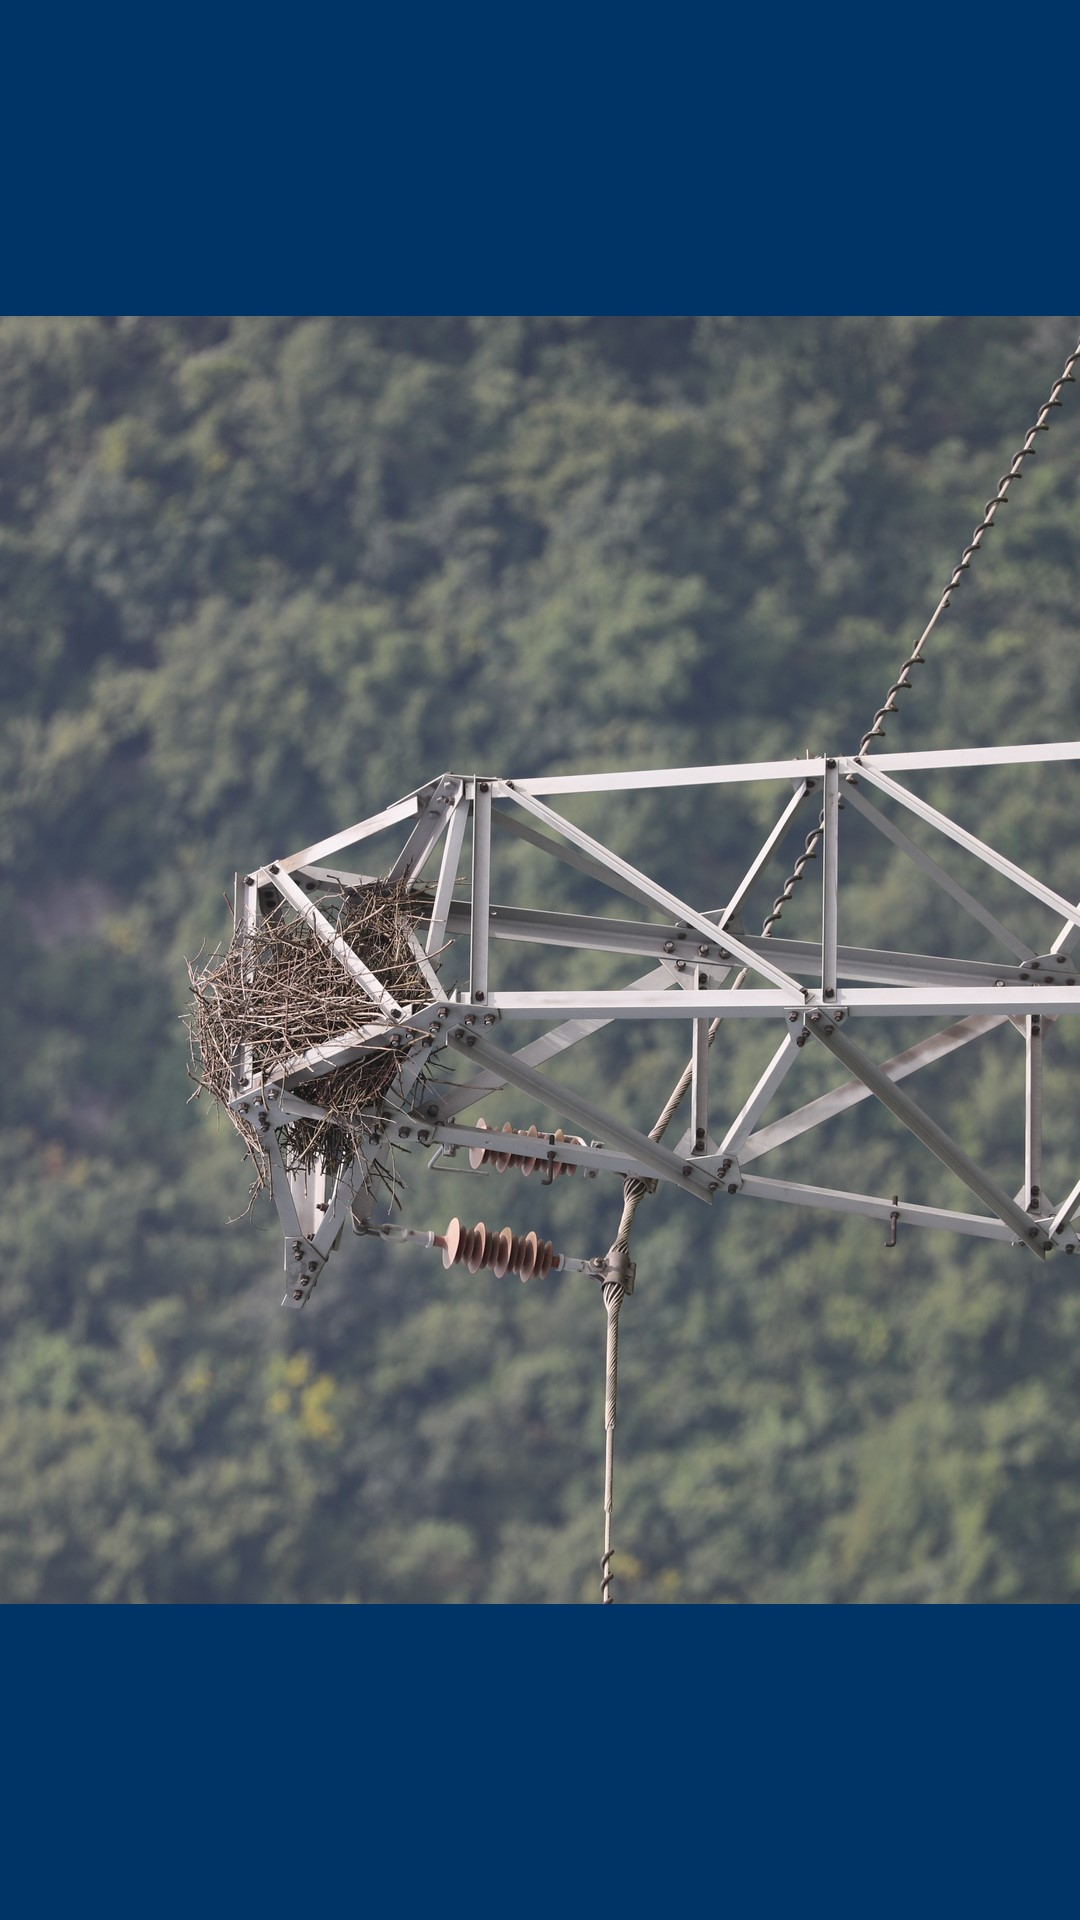niaowo: (135, 843, 451, 1184)
